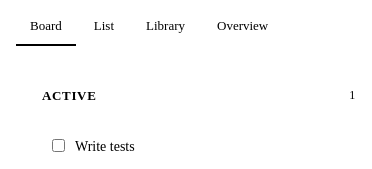
Test: VaultWorkspace › switches to the library view when the Library tab is clicked
Click the tab "Library" at (166, 27), box [132,8,199,46]
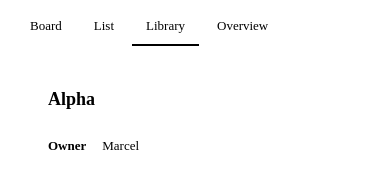
Expected: the panel is shown, [48,89,95,109]
Expected: the text "Alpha" is shown, [48,89,95,110]
